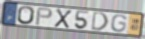5: (74, 9, 90, 30)
D: (90, 10, 109, 31)
G: (110, 14, 128, 33)
O: (17, 6, 36, 26)
P: (34, 7, 54, 27)
X: (53, 8, 73, 30)
